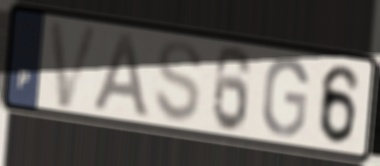6: (317, 62, 362, 148), (211, 43, 252, 135)
A: (90, 28, 153, 122)
G: (259, 55, 311, 139)
S: (152, 38, 205, 126)
V: (47, 18, 104, 112)
